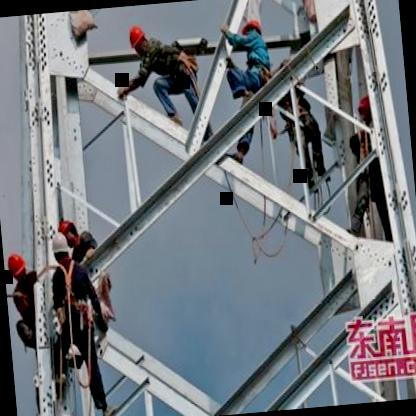helmet: (354, 87, 382, 129), (4, 252, 31, 285), (126, 22, 149, 60), (240, 17, 264, 48), (50, 235, 72, 268), (58, 218, 80, 247)
